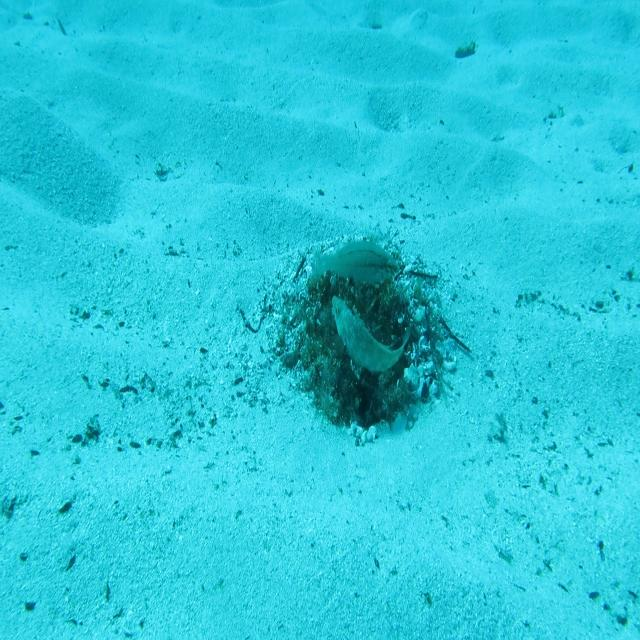DAN_CIRC: (329, 294, 414, 375)
core_nest: (332, 277, 378, 332)
female: (309, 238, 402, 291)
nest: (242, 218, 458, 471)
vegetation: (453, 38, 477, 61)
